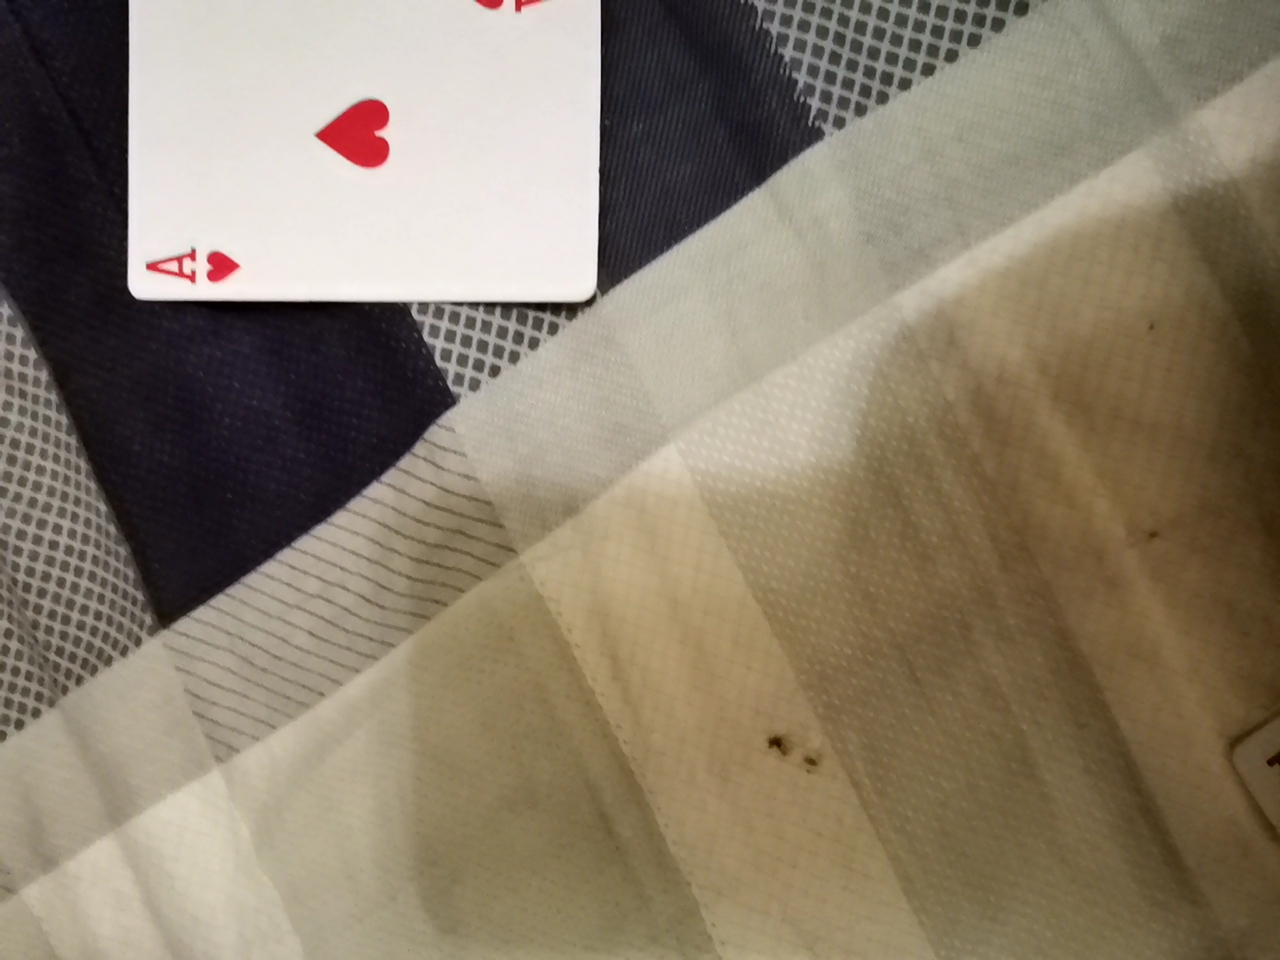hx a: (119, 0, 622, 320)
